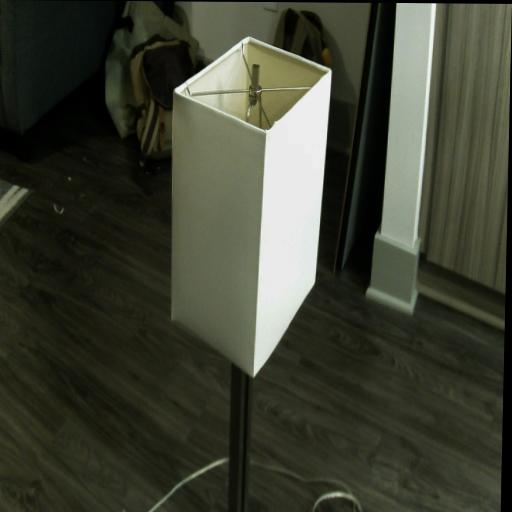lamp: (164, 35, 332, 512)
